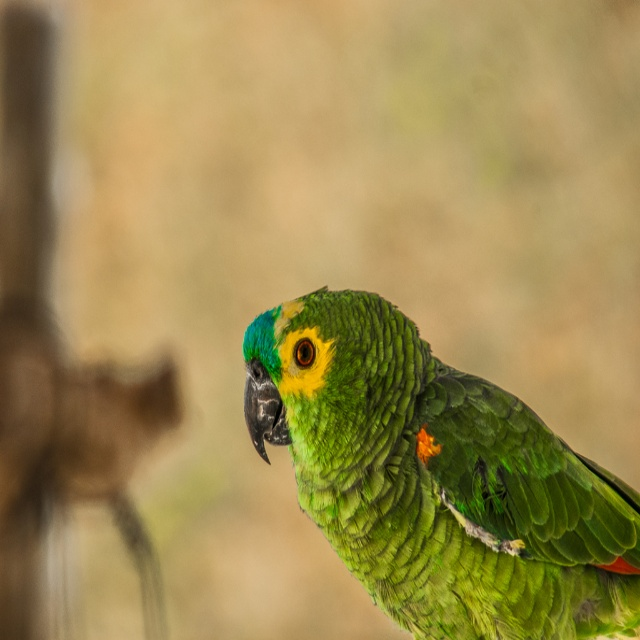Parrot: (244, 283, 639, 639)
